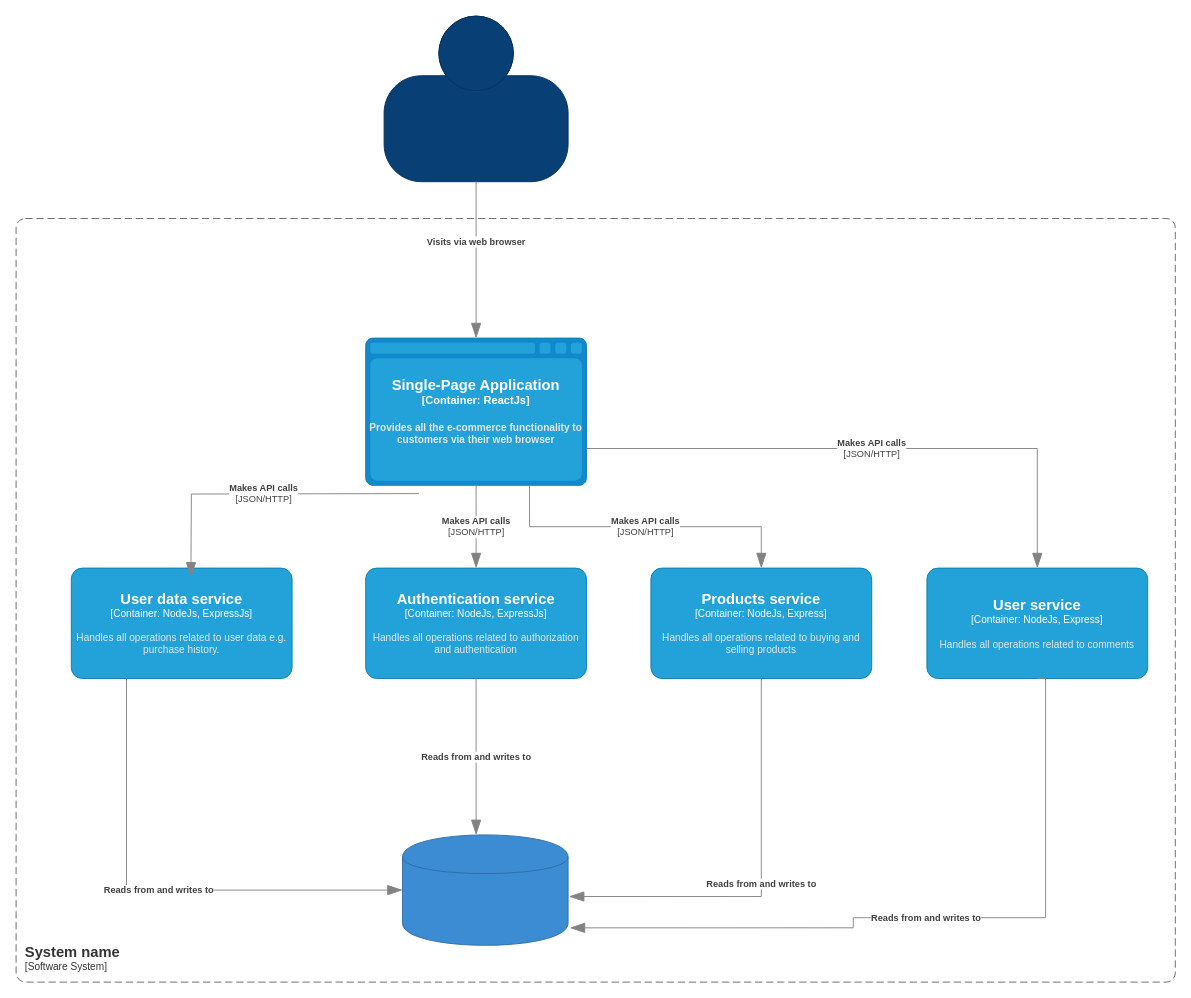
Some shapes in this 1191 by 998 pixel diagram are drawn without their labels. The shapes that lost their labels are listed below. From the top down, each one's centre as x and y in pixels, then its label:
At [475,98]: "Customer [Person] A customer of the web store".
At [485,889]: "Database [ MySQL database ] Stores information regarding visits".
